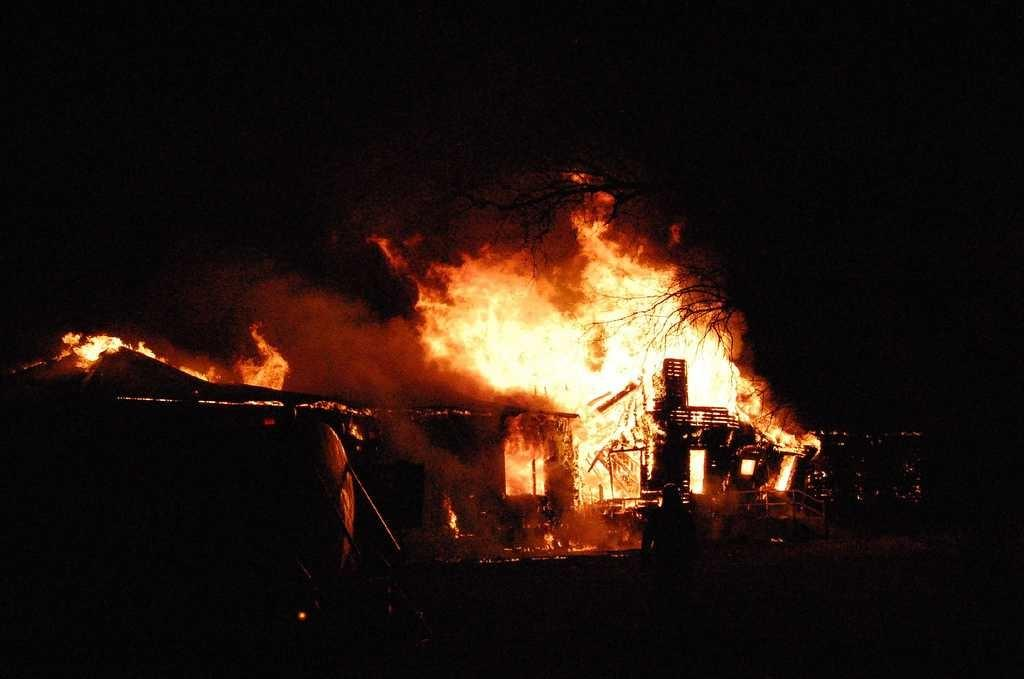fire: (457, 305, 570, 390), (600, 280, 665, 382)
